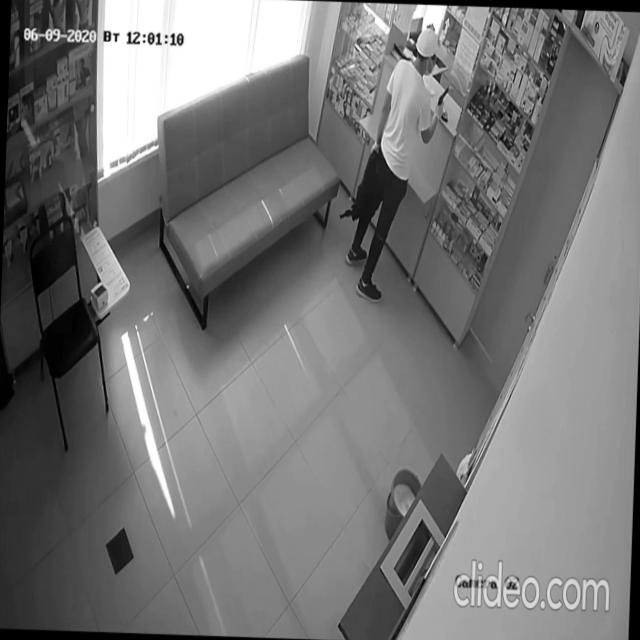gun: (437, 85, 449, 106)
person with a gun: (342, 26, 452, 307)
